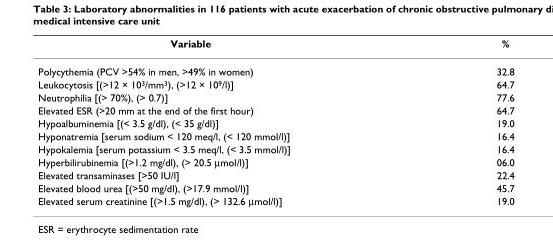table: (37, 36, 513, 207)
table column: (37, 36, 392, 207), (392, 36, 513, 207)
table column header: (37, 36, 513, 57)
table row: (37, 36, 513, 57), (37, 57, 513, 77), (37, 154, 513, 168), (37, 193, 513, 207), (37, 77, 513, 90), (37, 90, 513, 103), (37, 103, 513, 116), (37, 116, 513, 129), (37, 129, 513, 142), (37, 168, 513, 181), (37, 142, 513, 154), (37, 181, 513, 193)
